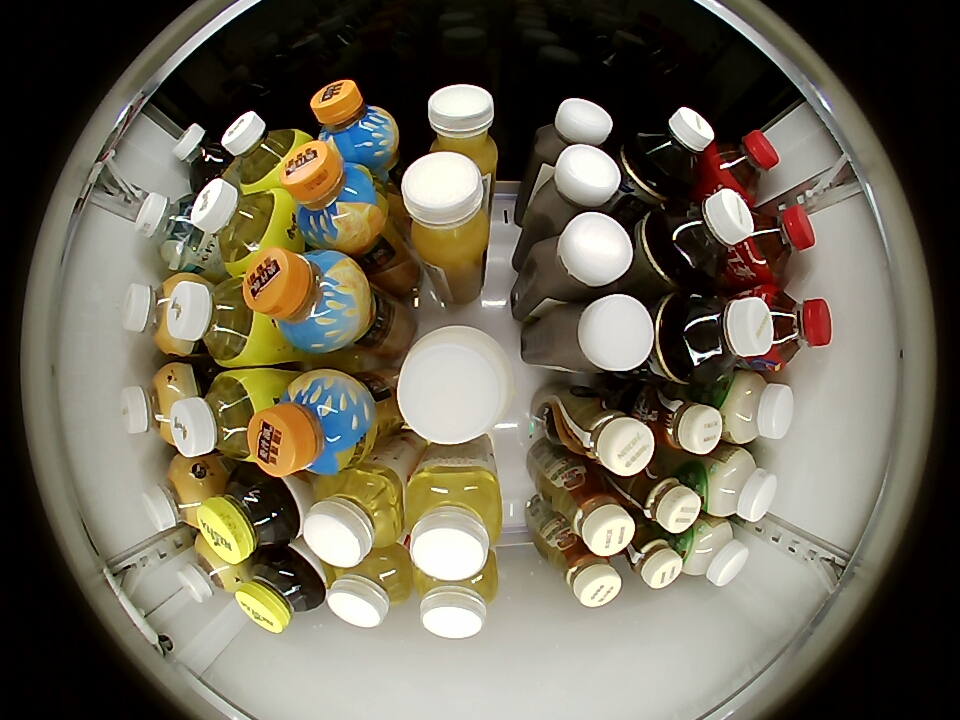asamu: (123, 273, 190, 356), (121, 365, 189, 445), (142, 457, 212, 533)
binghongcha: (759, 287, 833, 369), (739, 204, 816, 281), (707, 130, 780, 200)
bingtangxueli: (190, 179, 290, 273), (170, 368, 272, 460), (167, 275, 266, 366), (219, 110, 304, 189), (178, 538, 244, 603)
chacui: (198, 467, 300, 563), (235, 548, 325, 633)
chapai2: (404, 460, 503, 582), (302, 466, 404, 568), (414, 555, 499, 639), (327, 546, 414, 628)
damaicha: (173, 122, 235, 189)
guolicheng: (247, 369, 373, 477), (245, 248, 370, 353), (281, 140, 387, 251), (310, 79, 399, 168)
kafei: (556, 389, 656, 476), (548, 465, 636, 556), (632, 384, 723, 455), (618, 461, 703, 534), (543, 532, 622, 607), (620, 522, 685, 589)
nfc: (399, 151, 493, 262), (424, 84, 499, 182)
qinningshui: (135, 192, 209, 269)
wulongcha: (678, 288, 774, 378), (662, 189, 755, 279), (635, 106, 715, 184)
yingyangkuaixian: (395, 324, 515, 444)
yousuanru: (715, 370, 794, 444), (703, 447, 777, 522), (677, 515, 749, 586)
youyanggudong: (533, 211, 636, 301), (552, 293, 655, 374), (531, 143, 624, 230), (531, 98, 615, 166)
